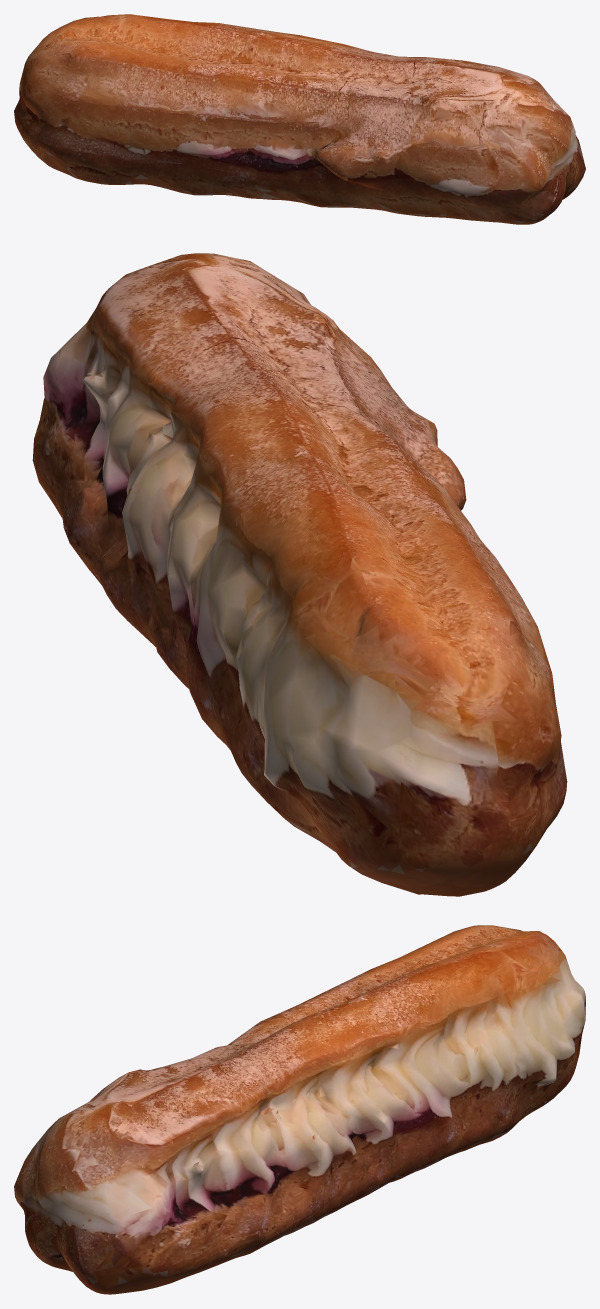
The model's file is eclaire_3782.obj.
The picture shows the model from 3 angles, top to bottom: view 1: azimuth 30°, elevation 25°; view 2: azimuth 150°, elevation 25°; view 3: azimuth 270°, elevation 25°; orthographic projection. The views are drawn at different scales.
Bounding box in the file's own units: 93.79 × 31.59 × 91.26.
1 material, 1 textured.
